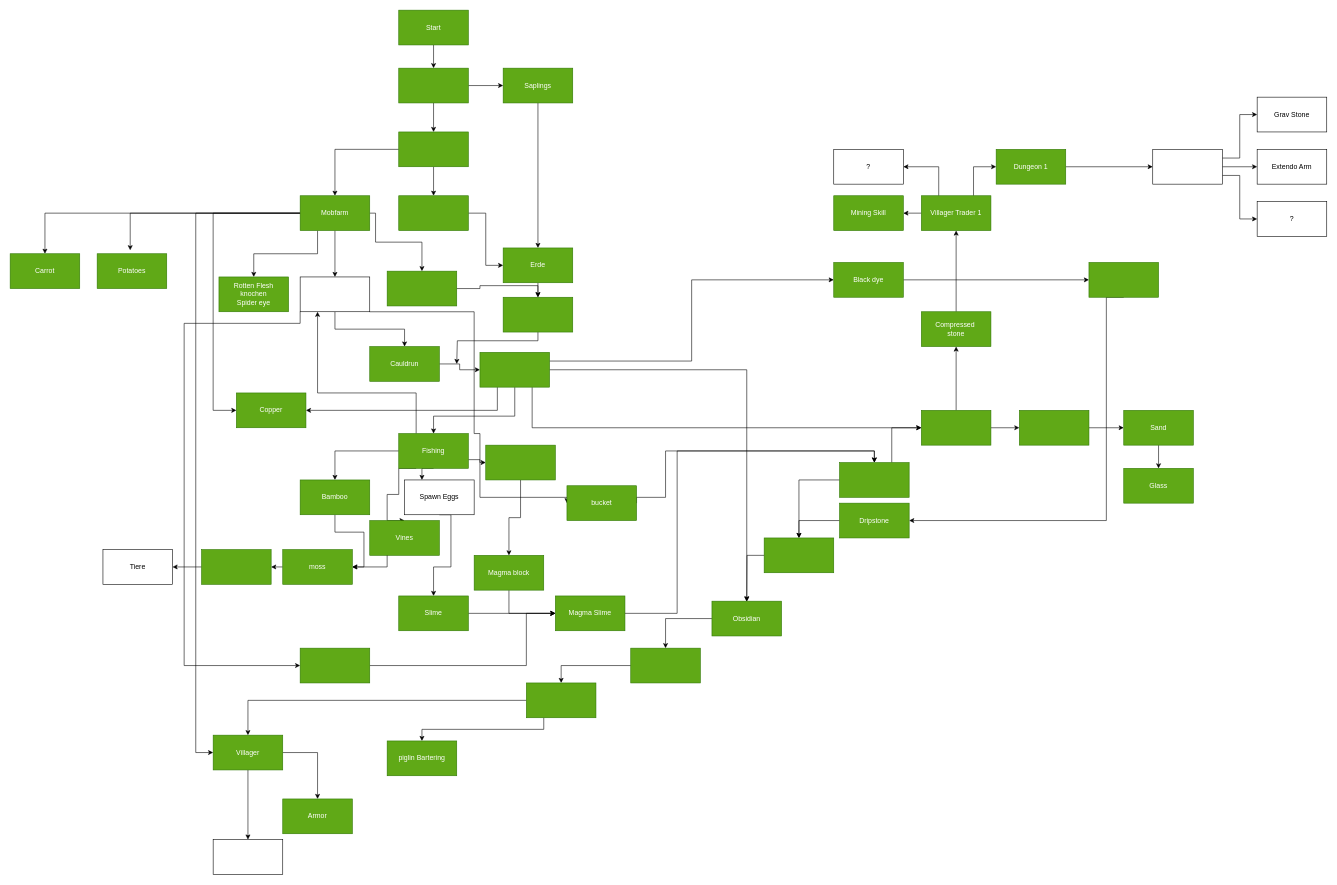
Some shapes in this 1337 by 885 pixel diagram are drawn without their labels. Each missing label, with the centre of its shape:
"Baum" goes at (x=433, y=85).
"Boss 1" goes at (x=1187, y=166).
"Bottle (witch)" goes at (x=422, y=288).
"Coal" goes at (x=520, y=462).
"Composter" goes at (x=433, y=213).
"Deepslate" goes at (x=1123, y=279).
"Dirty Water" goes at (x=538, y=314).
"Gold" goes at (x=561, y=700).
"Grass" goes at (x=236, y=566).
"Gravel" goes at (x=1054, y=427).
"Holz" goes at (x=433, y=149).
"infinit lava" goes at (x=799, y=555).
"Iron" goes at (x=335, y=294).
"Lava" goes at (x=874, y=479).
"Nether" goes at (x=665, y=665).
"Smithing Table" goes at (x=335, y=665).
"Stone" goes at (x=956, y=427).
"Wasser" goes at (x=514, y=369).
